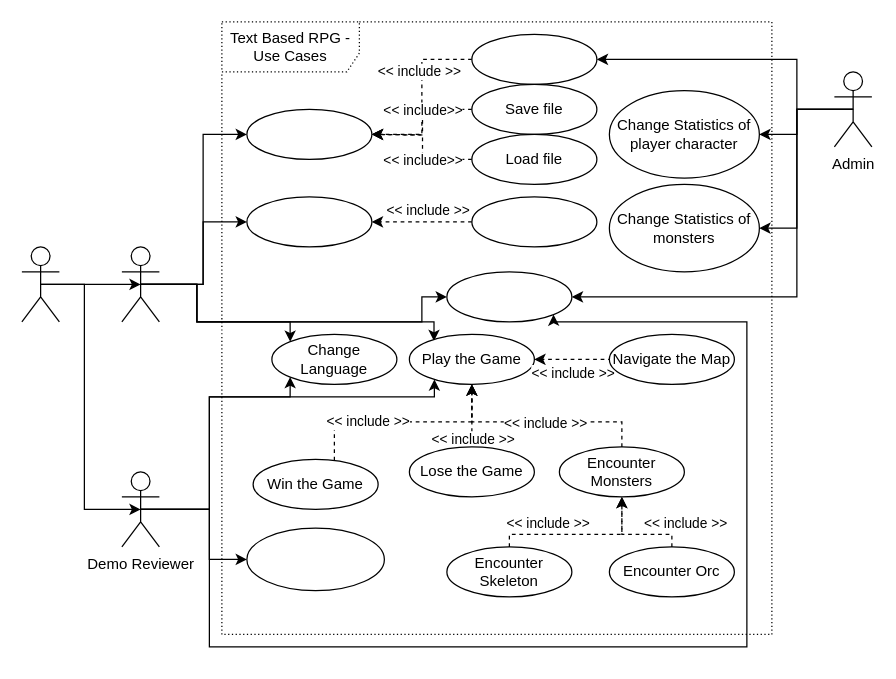
Some shapes in this 896 by 679 pixel diagram are drawn without their labels. Each missing label, with the centre of its shape:
Access Save files: the point at 309,133
Choose a class: the point at 309,221
Create new character: the point at 534,221
Customer: the point at 140,284
Delete file: the point at 534,58
Login: the point at 509,296
User: the point at 40,284
Write a game review and post: the point at 315,559
